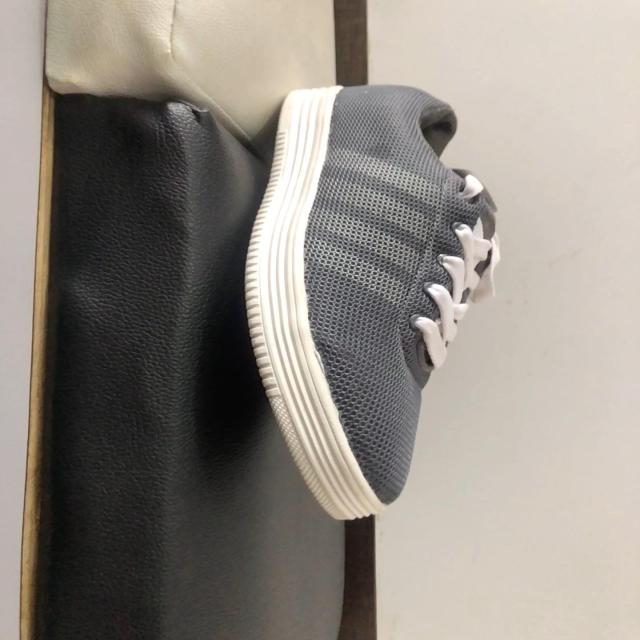shoe: (244, 85, 501, 524)
